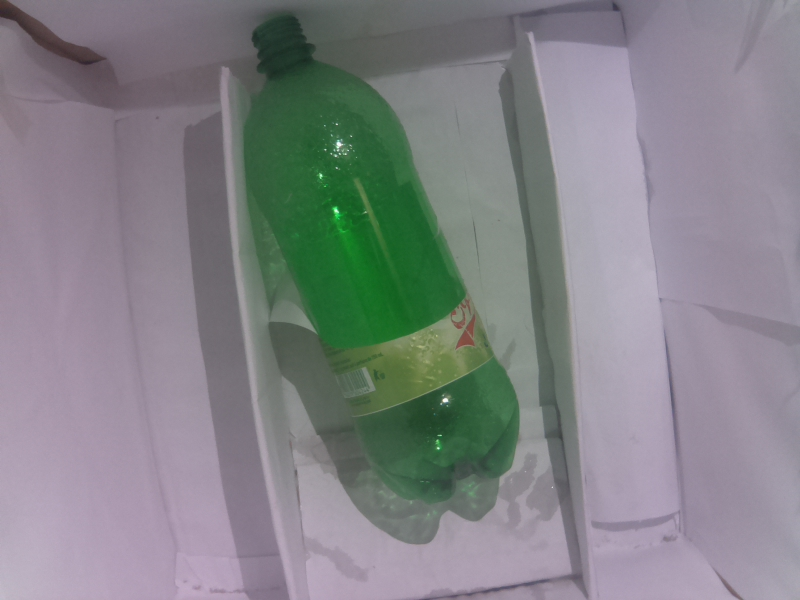botolplastik: (253, 16, 519, 501)
